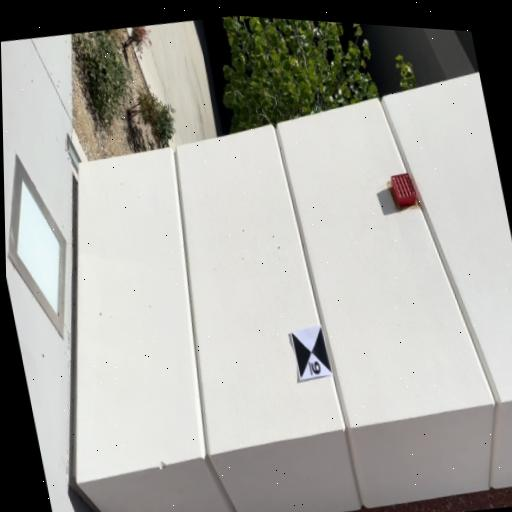target9: (290, 323, 333, 379)
